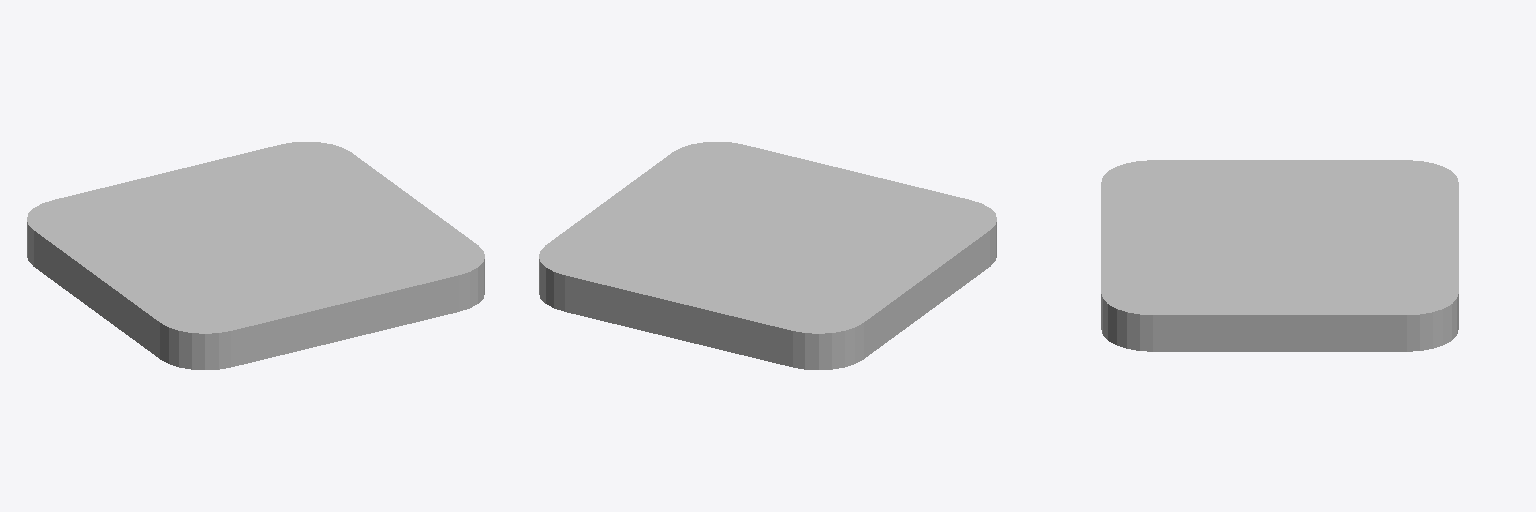
The model's file is original-43.obj.
3 views of the same model, side by side, from view 1: azimuth 30°, elevation 25°; view 2: azimuth 150°, elevation 25°; view 3: azimuth 270°, elevation 25° (orthographic).
Parts seen in each view (by area): view 1: mesh42/mesh42-geometry#mesh42-geometry; view 2: mesh42/mesh42-geometry#mesh42-geometry; view 3: mesh42/mesh42-geometry#mesh42-geometry.
Part boxes in pixels (x1,y1,x2,y2): mesh42/mesh42-geometry#mesh42-geometry: (27, 142, 484, 369); mesh42/mesh42-geometry#mesh42-geometry: (539, 142, 996, 369); mesh42/mesh42-geometry#mesh42-geometry: (1101, 160, 1458, 351).
Bounding box in the file's own units: 0.0583 × 0.0064 × 0.0568.